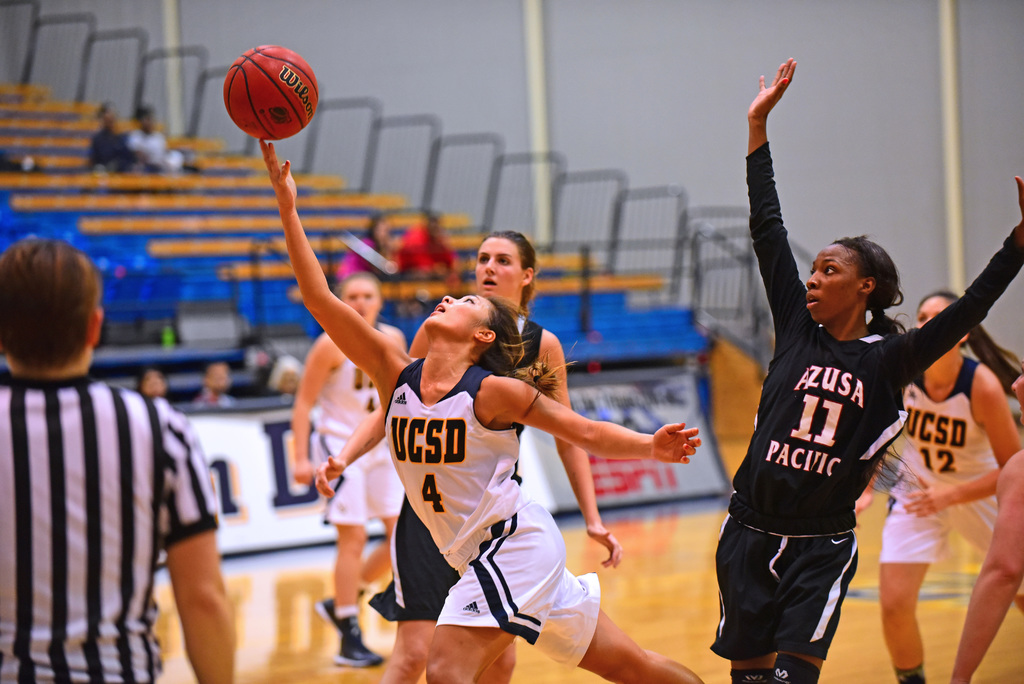Ball: (221, 44, 318, 140)
